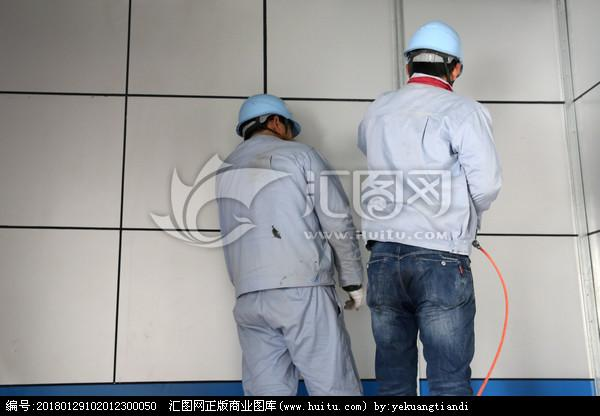helmet: (403, 22, 467, 65), (235, 94, 301, 134)
